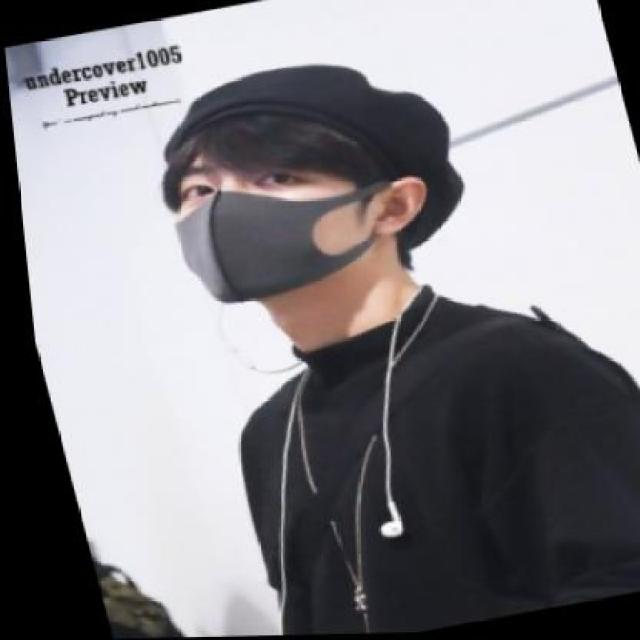hat: (158, 66, 461, 253)
